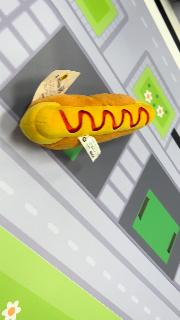hotdog: (20, 93, 156, 151)
